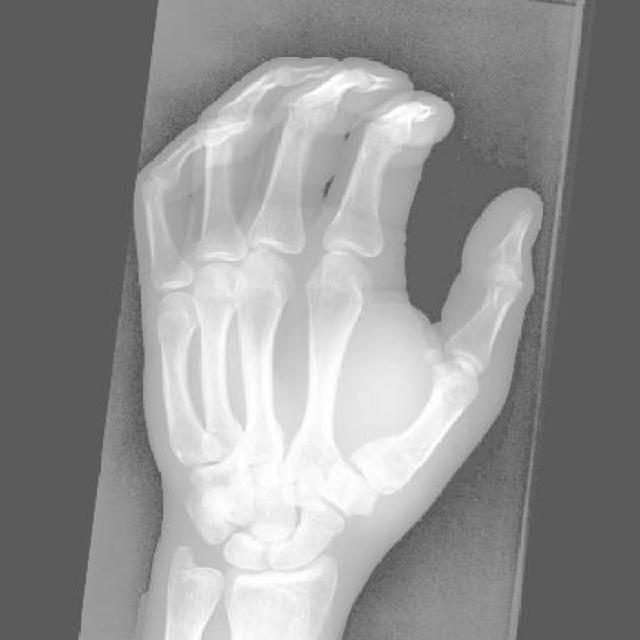Fracture: (371, 431, 427, 487)
